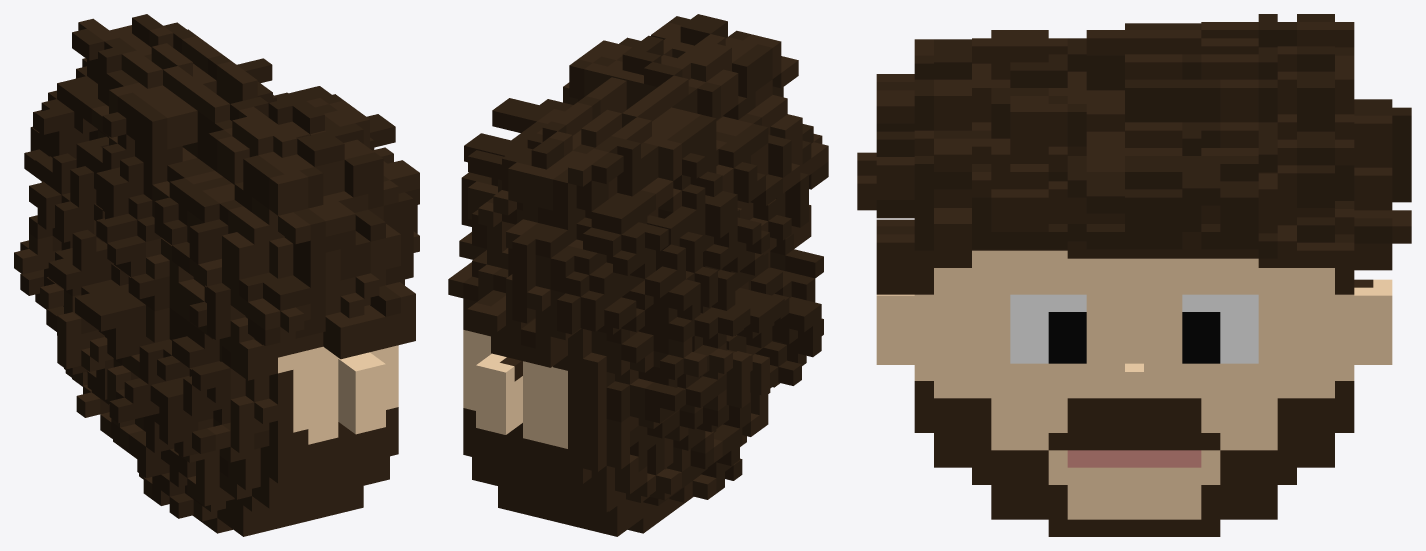
Rendered from Player-head.obj.
The picture shows the model from 3 angles, left to right: view 1: azimuth 30°, elevation 25°; view 2: azimuth 150°, elevation 25°; view 3: azimuth 270°, elevation 25°; orthographic projection. The views are drawn at different scales.
Size of the model in its own units: 1.9 by 2.6 by 2.9.
1 material, 1 textured.
